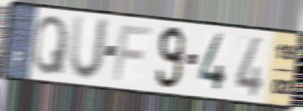4: (196, 30, 228, 94), (235, 34, 265, 98)
9: (153, 25, 189, 92)
F: (111, 23, 155, 83)
Q: (31, 14, 70, 77)
U: (67, 14, 111, 83)
